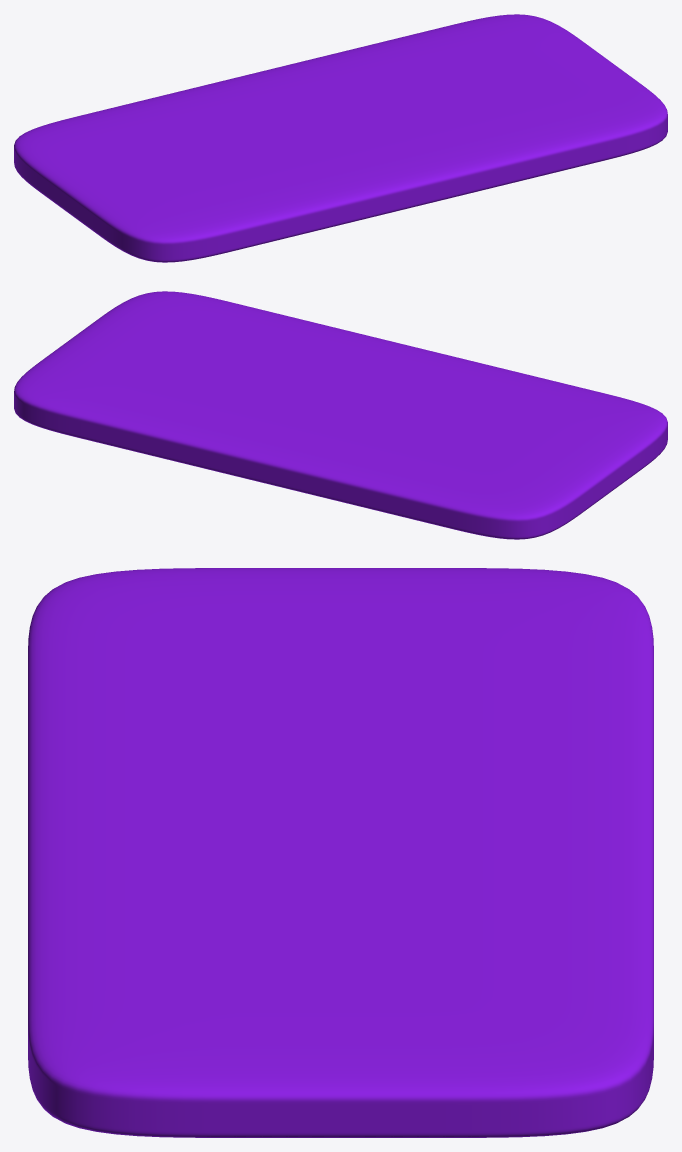
Rendered from Card_1.fbx.
3 renders of one model, top to bottom at view 1: azimuth 30°, elevation 25°; view 2: azimuth 150°, elevation 25°; view 3: azimuth 270°, elevation 25°, orthographic. The views are drawn at different scales.
Visible parts, largest first — view 1: AARF.003; view 2: AARF.003; view 3: AARF.003.
Part boxes in pixels (x1=…): AARF.003: x1=14, y1=14, x2=667, y2=262; AARF.003: x1=14, y1=291, x2=667, y2=539; AARF.003: x1=28, y1=568, x2=653, y2=1137.
Size of the model in its own units: 37.5 by 2 by 18.75.
